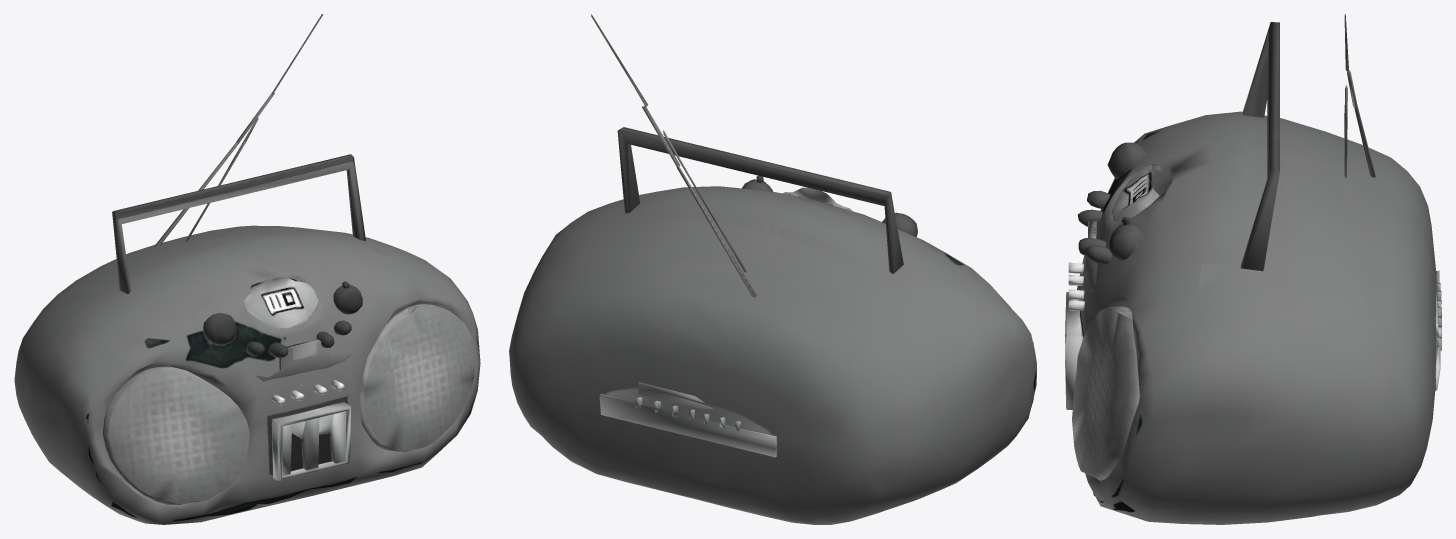
The model's file is CrimsonBoombox.obj.
The picture shows the model from 3 angles, left to right: view 1: azimuth 30°, elevation 25°; view 2: azimuth 150°, elevation 25°; view 3: azimuth 270°, elevation 25°; orthographic projection. The views are drawn at different scales.
Visible parts, largest first — view 1: Meshy_AI_Crimson_Boombox_0805062355_texture; view 2: Meshy_AI_Crimson_Boombox_0805062355_texture; view 3: Meshy_AI_Crimson_Boombox_0805062355_texture.
Part boxes in pixels (left/top/right/bottom): Meshy_AI_Crimson_Boombox_0805062355_texture: left=14, top=14, right=480, bottom=524; Meshy_AI_Crimson_Boombox_0805062355_texture: left=509, top=14, right=1036, bottom=524; Meshy_AI_Crimson_Boombox_0805062355_texture: left=1065, top=14, right=1441, bottom=524.
Size of the model in its own units: 1 by 0.9375 by 0.6426.
